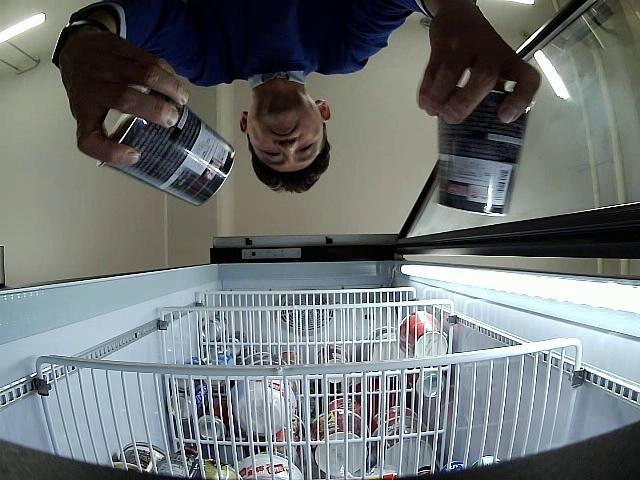08_buldak_S: (96, 88, 235, 206), (435, 86, 533, 216)
